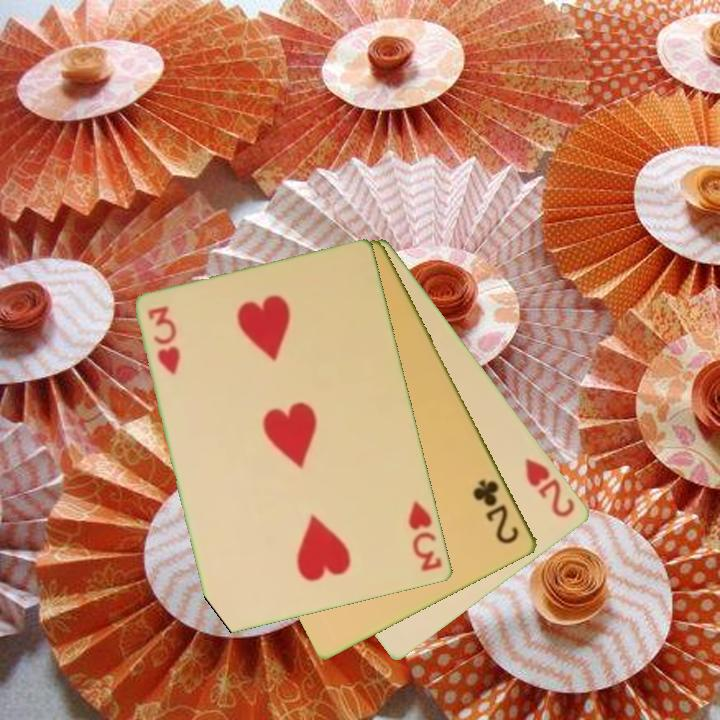2c: (469, 475, 523, 548)
2h: (521, 455, 579, 521)
3h: (405, 497, 446, 575), (144, 302, 184, 378)
